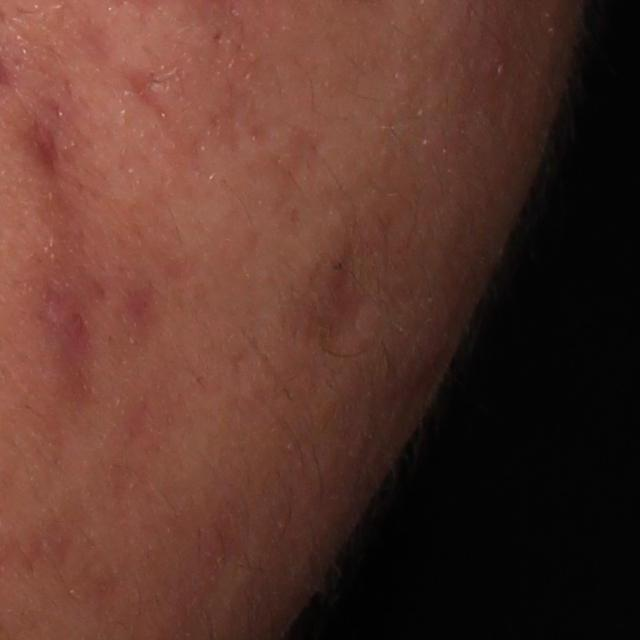atrophic_scar: (26, 218, 106, 442), (1, 519, 117, 600), (294, 230, 360, 368), (6, 94, 76, 192), (111, 54, 180, 133)
